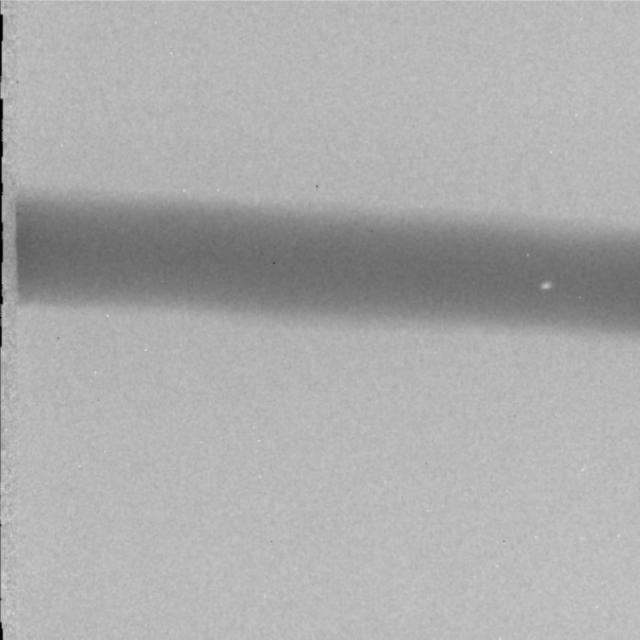air hole: (539, 278, 551, 291)
